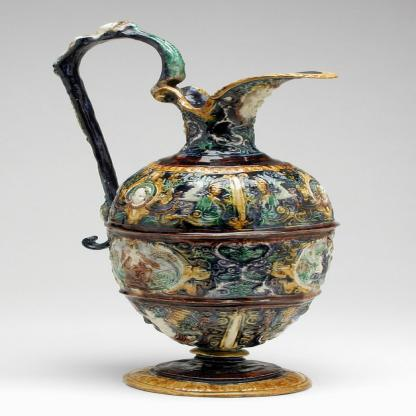vase: (53, 20, 337, 397)
